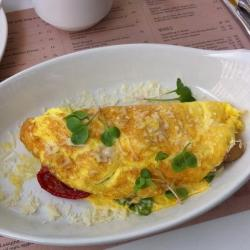omelette: (23, 98, 237, 205)
